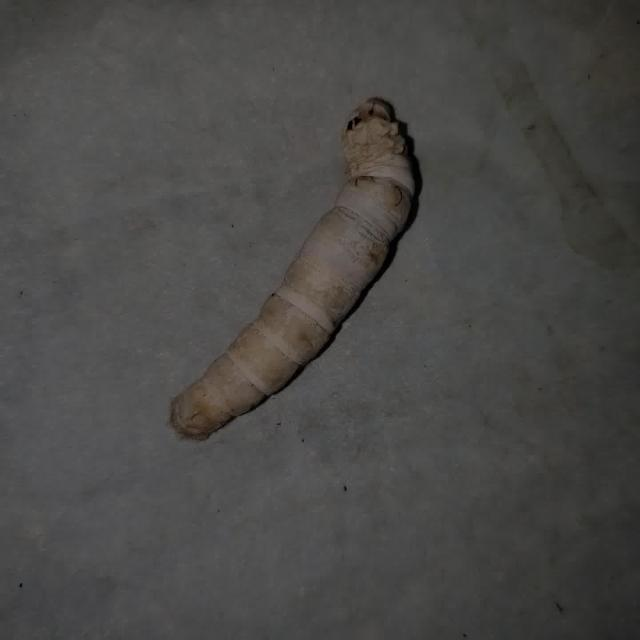Grasserie: (154, 90, 426, 443)
